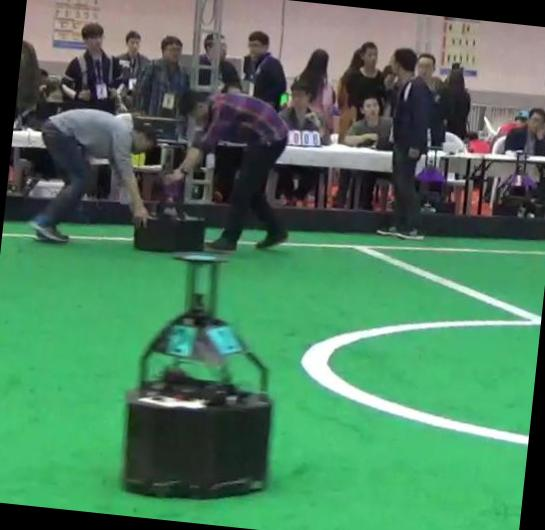person: (171, 93, 287, 252), (33, 109, 152, 244), (377, 48, 433, 240)
robot: (124, 253, 272, 500), (133, 144, 205, 252)
